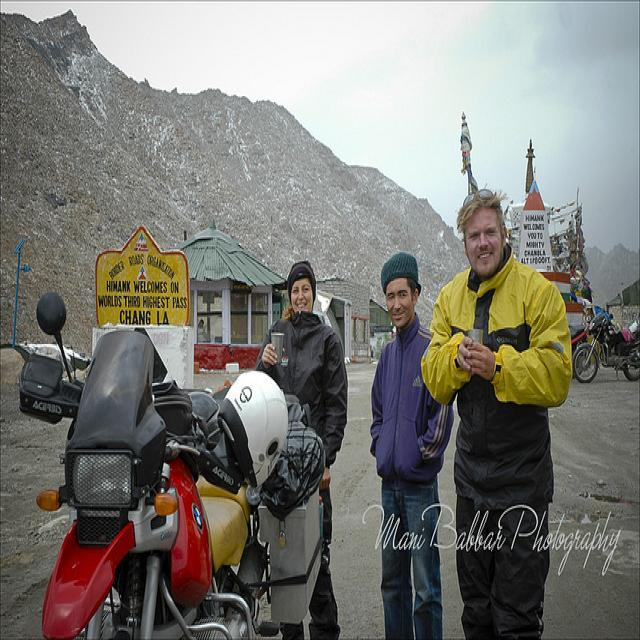motor: (12, 293, 332, 640), (572, 312, 640, 385)
